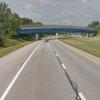Bridge: (17, 14, 97, 42)
